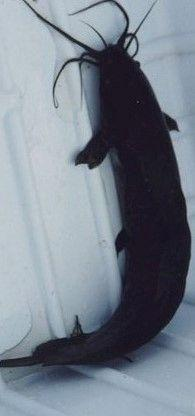Catfish: (0, 0, 194, 371)
